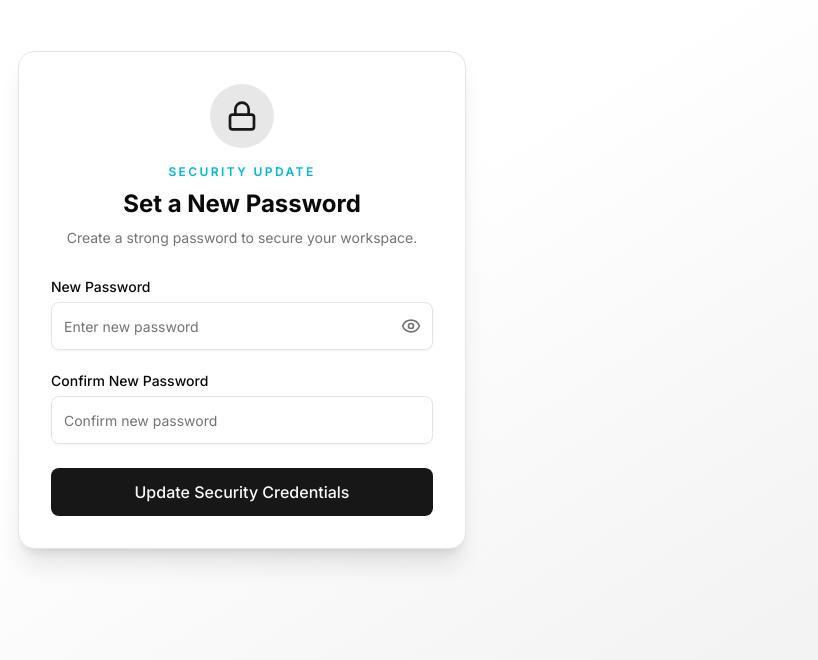
Test: Reset Password Page › TC-RESET-002: Reset password validation
This screenshot has width=818, height=660.
Type "StrongPass123" into the password field labelled "New Password" at (242, 326), box [51, 302, 433, 350]
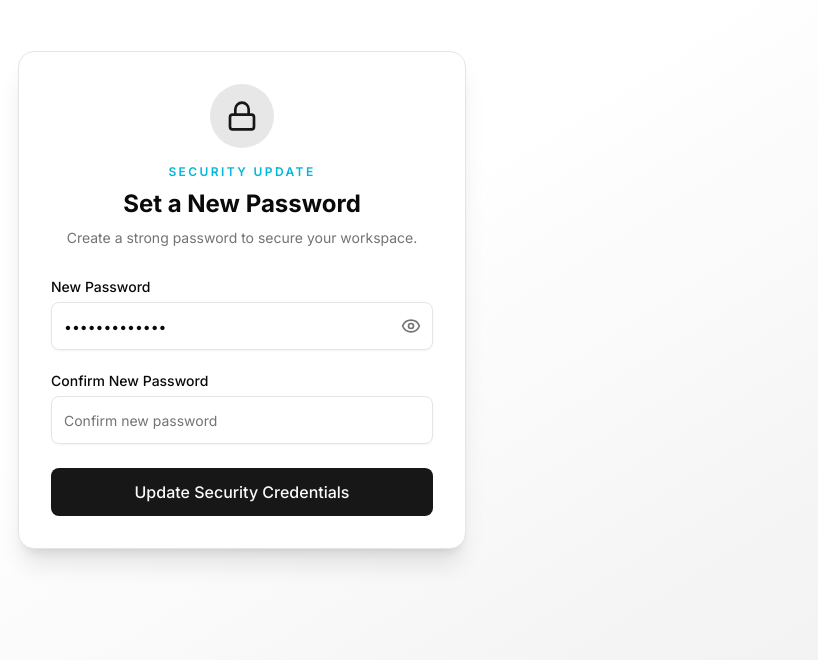
Type "WrongPass123" into the password field labelled "Confirm New Password" at (242, 420), box [51, 396, 433, 444]
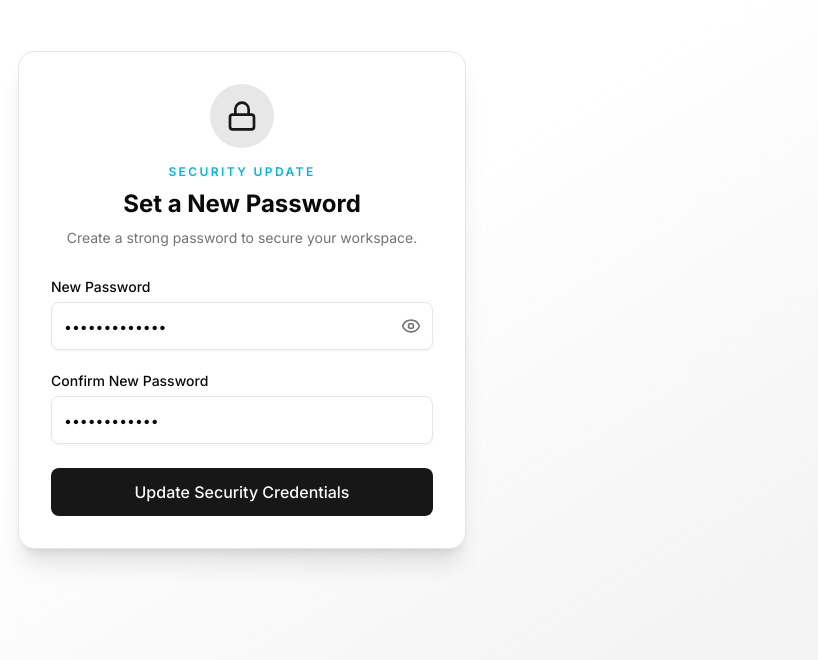
Click the button "Update Security Credentials" at (242, 492), box [51, 468, 433, 516]
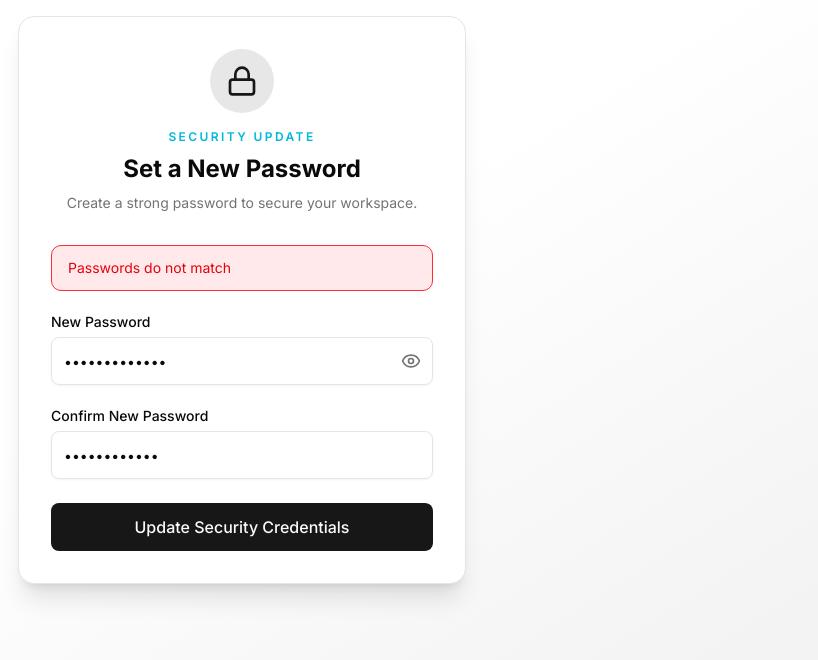
Result: the text "Passwords do not match" is shown at [68, 259, 231, 276]
